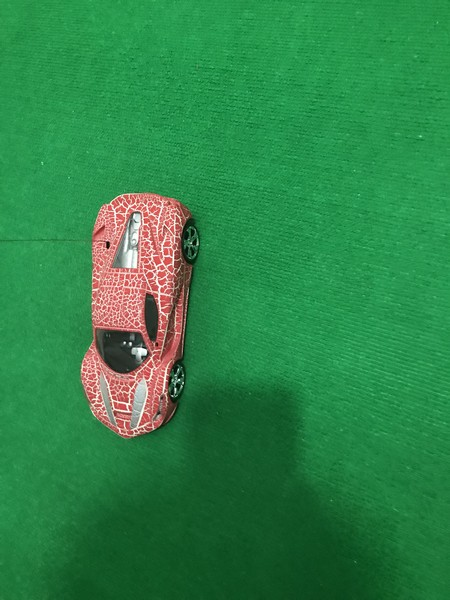RC: (79, 192, 201, 442)
